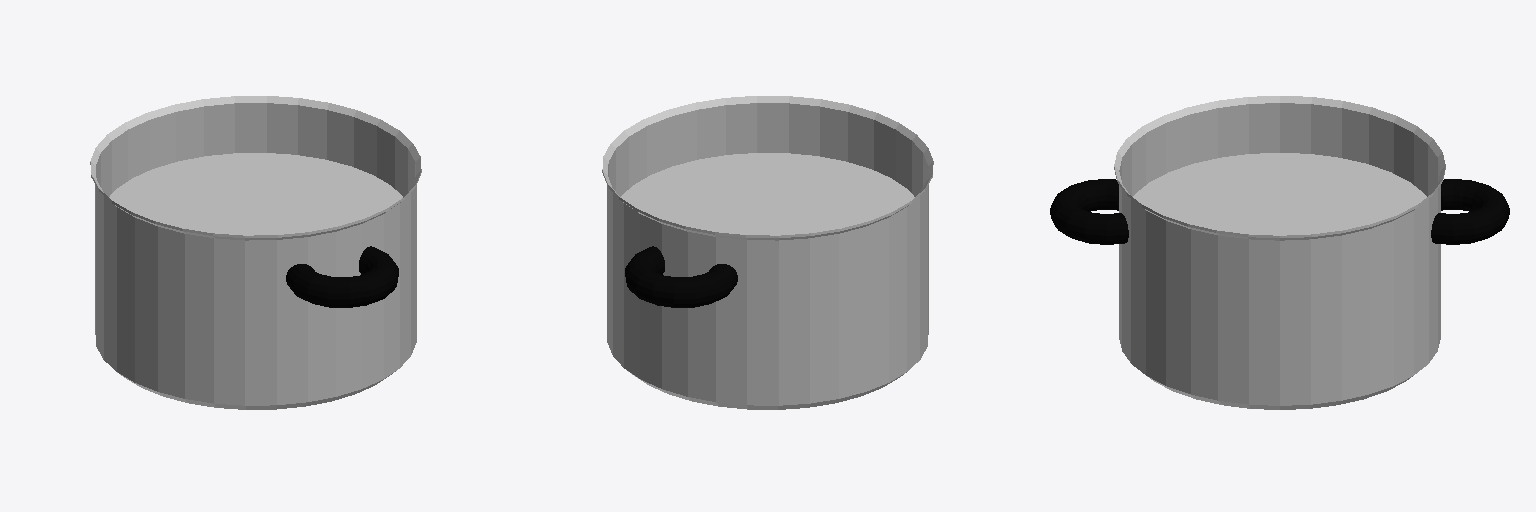
File: bigWaterPan.obj
3 renders of one model, left to right at view 1: azimuth 30°, elevation 25°; view 2: azimuth 150°, elevation 25°; view 3: azimuth 270°, elevation 25°, orthographic.
Parts seen in each view (by area): view 1: metal, water, handles; view 2: metal, water, handles; view 3: metal, water, handles.
Part boxes in pixels (x1,y1,x2,y2): metal: (90, 96, 421, 409); water: (109, 153, 402, 235); handles: (286, 246, 398, 307); metal: (602, 96, 933, 409); water: (621, 153, 914, 235); handles: (625, 246, 737, 307); metal: (1114, 96, 1445, 409); water: (1133, 153, 1426, 235); handles: (1050, 179, 1509, 244).
Size of the model in its own units: 0.2198 by 0.132 by 0.3049.